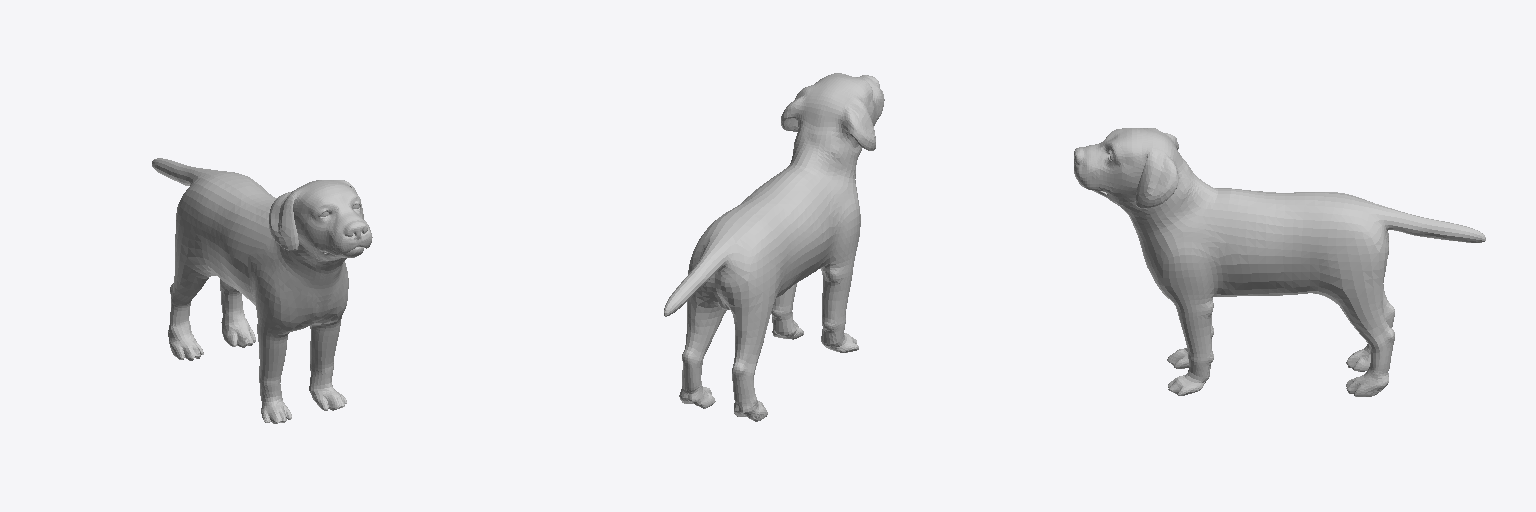
Rendered from newdog.obj.
The picture shows the model from 3 angles: view 1: azimuth 30°, elevation 25°; view 2: azimuth 150°, elevation 25°; view 3: azimuth 270°, elevation 25°; orthographic projection.
Visible parts, largest first — view 1: Dog_body; view 2: Dog_body; view 3: Dog_body.
Part boxes in pixels (x1,y1,x2,y2): Dog_body: (152, 158, 372, 423); Dog_body: (664, 73, 884, 421); Dog_body: (1074, 128, 1485, 396).
Bounding box in the file's own units: 13.34 × 35.48 × 53.58.